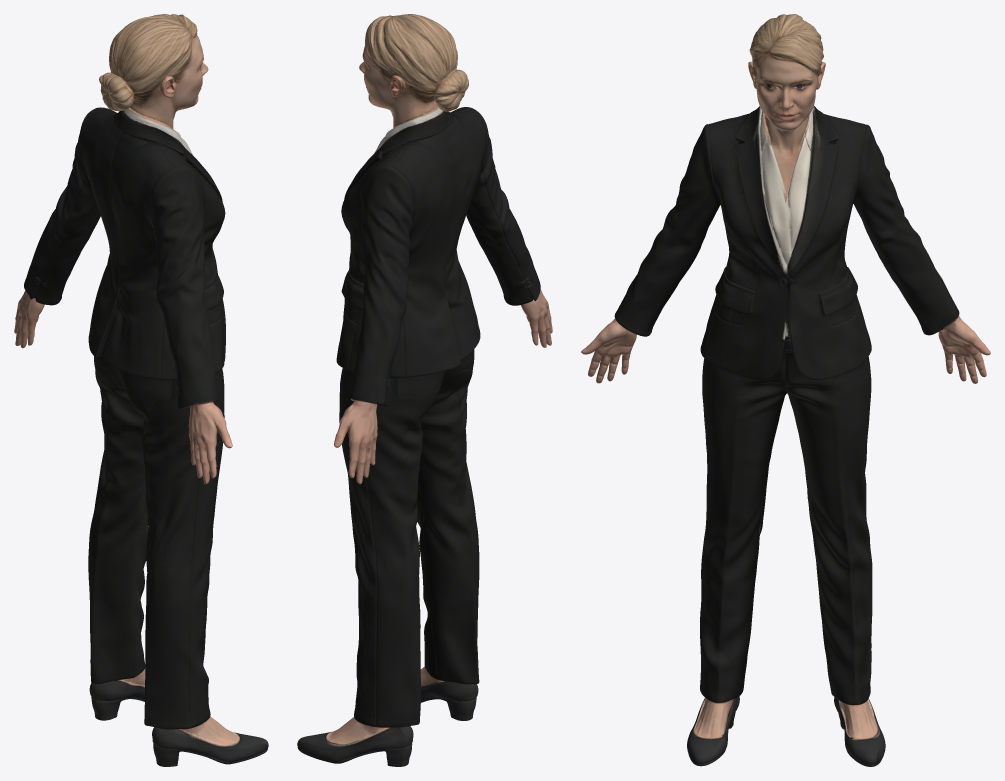
File: provider-original.glb
The picture shows the model from 3 angles, left to right: view 1: azimuth 30°, elevation 25°; view 2: azimuth 150°, elevation 25°; view 3: azimuth 270°, elevation 25°; orthographic projection.
Visible parts, largest first — view 1: tripo_node_f1cf4d05-de3b-443d-9c48-83c512604332; view 2: tripo_node_f1cf4d05-de3b-443d-9c48-83c512604332; view 3: tripo_node_f1cf4d05-de3b-443d-9c48-83c512604332.
Boxes of the visible parts, bbox=[...] form: tripo_node_f1cf4d05-de3b-443d-9c48-83c512604332: bbox=[14, 14, 268, 766]; tripo_node_f1cf4d05-de3b-443d-9c48-83c512604332: bbox=[297, 14, 552, 766]; tripo_node_f1cf4d05-de3b-443d-9c48-83c512604332: bbox=[581, 14, 990, 766].
Bounding box in the file's own units: 0.3197 × 1.75 × 0.9082.
Materials: 1 (1 with a texture image).
